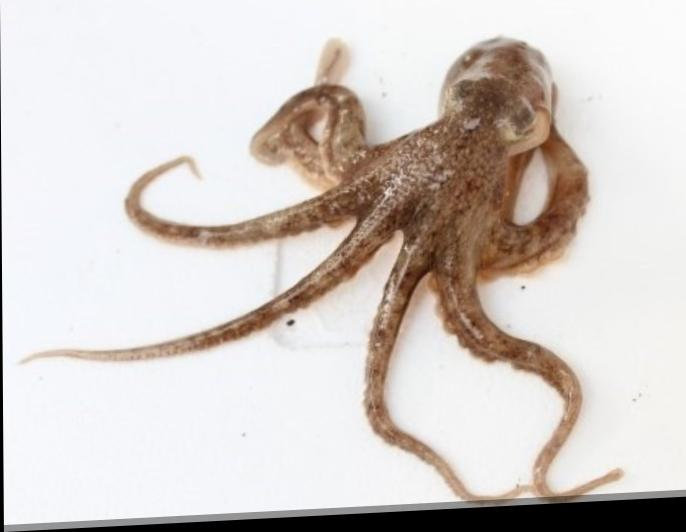Cephalopod: (18, 42, 625, 507)
